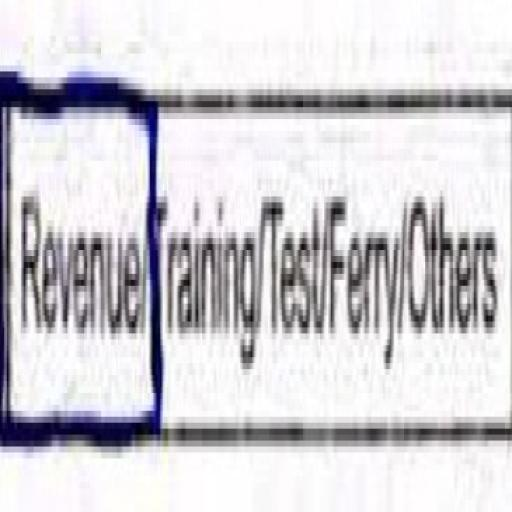check: (1, 6, 146, 512)
